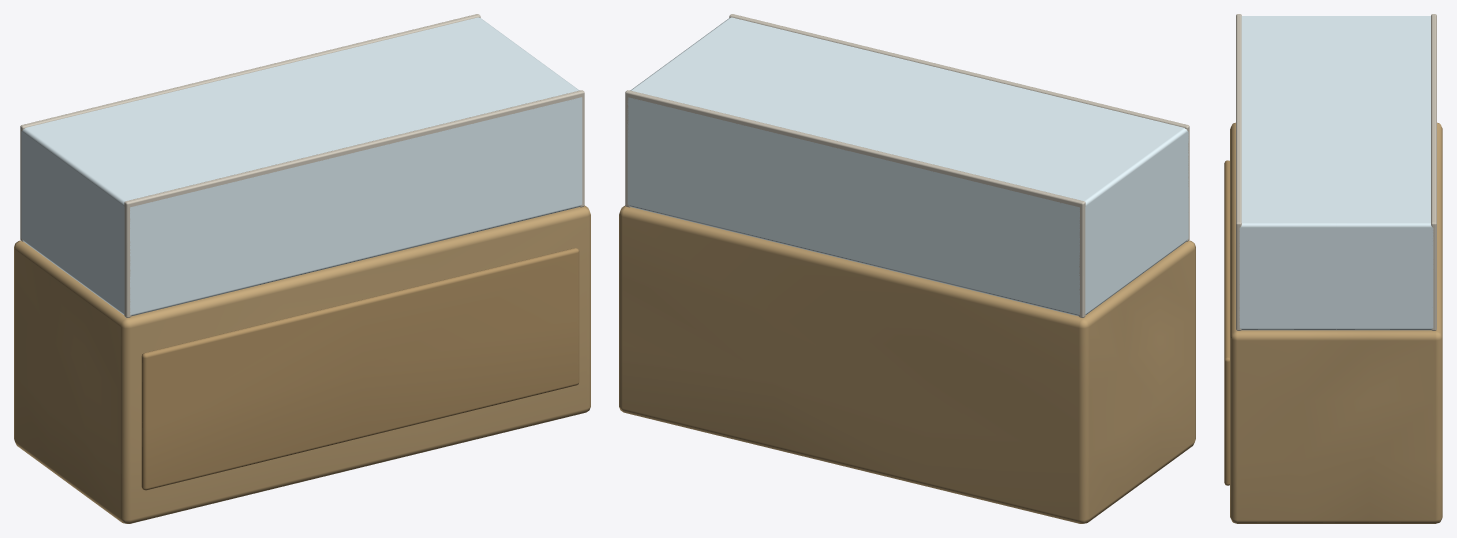
File: furn_cheesecake_case.glb
The picture shows the model from 3 angles, left to right: view 1: azimuth 30°, elevation 25°; view 2: azimuth 150°, elevation 25°; view 3: azimuth 270°, elevation 25°; orthographic projection. The views are drawn at different scales.
Visible parts, largest first — view 1: furn_cheesecake_case_main, furn_cheesecake_case_clear; view 2: furn_cheesecake_case_main, furn_cheesecake_case_clear; view 3: furn_cheesecake_case_clear, furn_cheesecake_case_main.
Part boxes in pixels (x1=…): furn_cheesecake_case_main: x1=14, y1=14, x2=590, y2=523; furn_cheesecake_case_clear: x1=21, y1=17, x2=582, y2=316; furn_cheesecake_case_main: x1=619, y1=14, x2=1195, y2=523; furn_cheesecake_case_clear: x1=627, y1=17, x2=1188, y2=316; furn_cheesecake_case_clear: x1=1239, y1=16, x2=1433, y2=330; furn_cheesecake_case_main: x1=1224, y1=14, x2=1442, y2=523.
Bounding box in the file's own units: 1.72 × 1.12 × 0.74.
